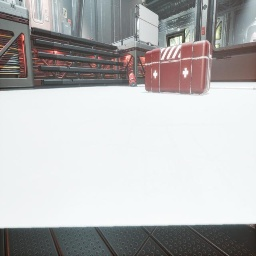EmergencyPhone ,: (62, 5, 67, 19)
FireAlarm ,: (201, 27, 205, 35), (68, 19, 71, 28)
FireExtinguisher ]: (127, 73, 138, 87)
FirstAidBox ,: (145, 29, 212, 95)
NitrogenTank ,: (86, 38, 94, 41)
SafetySwitchPanel ,: (4, 0, 16, 5)
